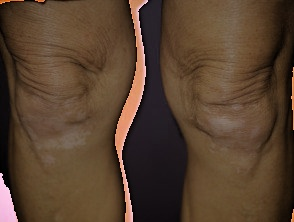vitiligo: (164, 66, 291, 187), (10, 73, 100, 176)
